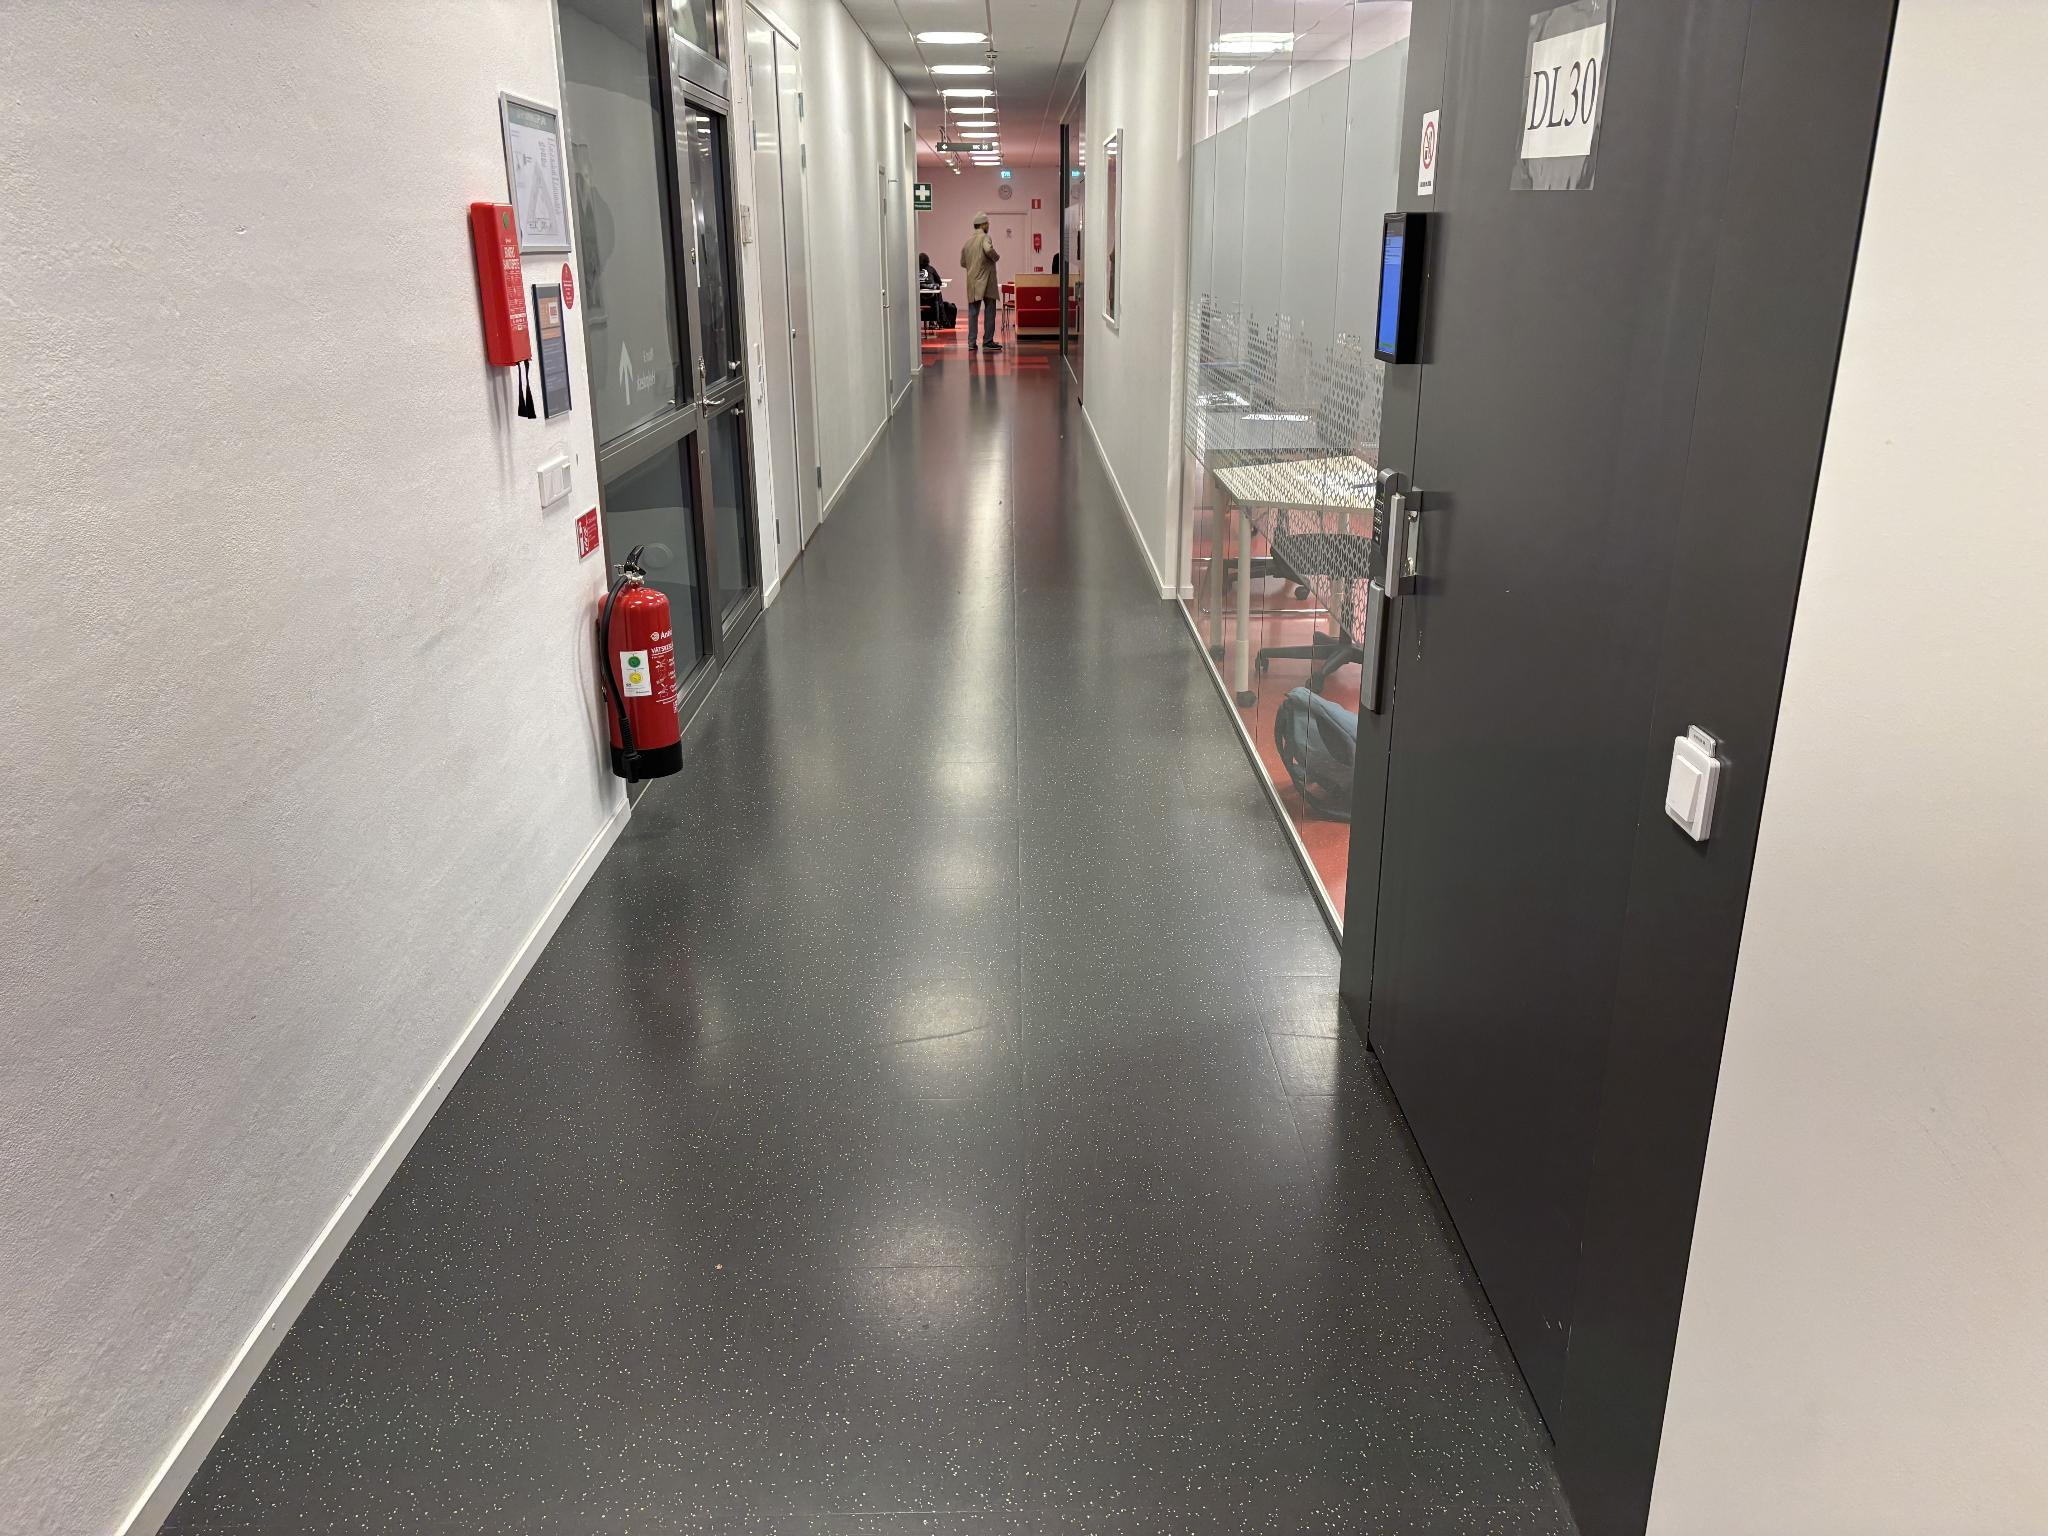exit_sign: (998, 168, 1016, 180)
person: (963, 211, 1001, 350)
